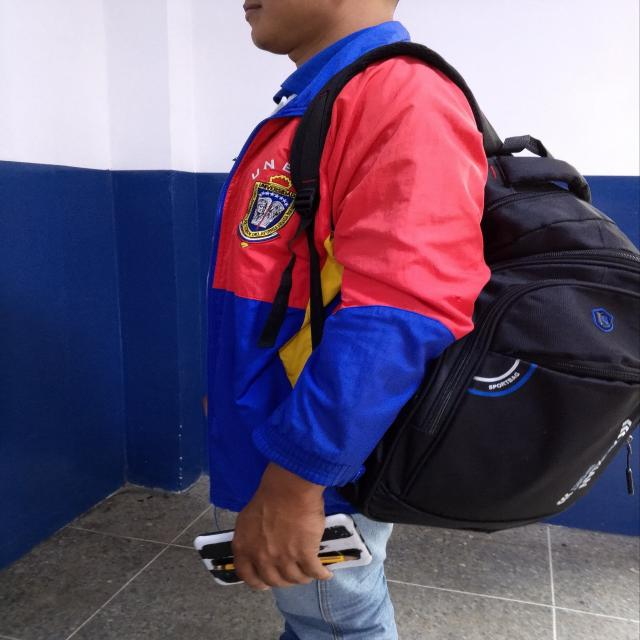chaqueta_unefa: (205, 21, 492, 520)
